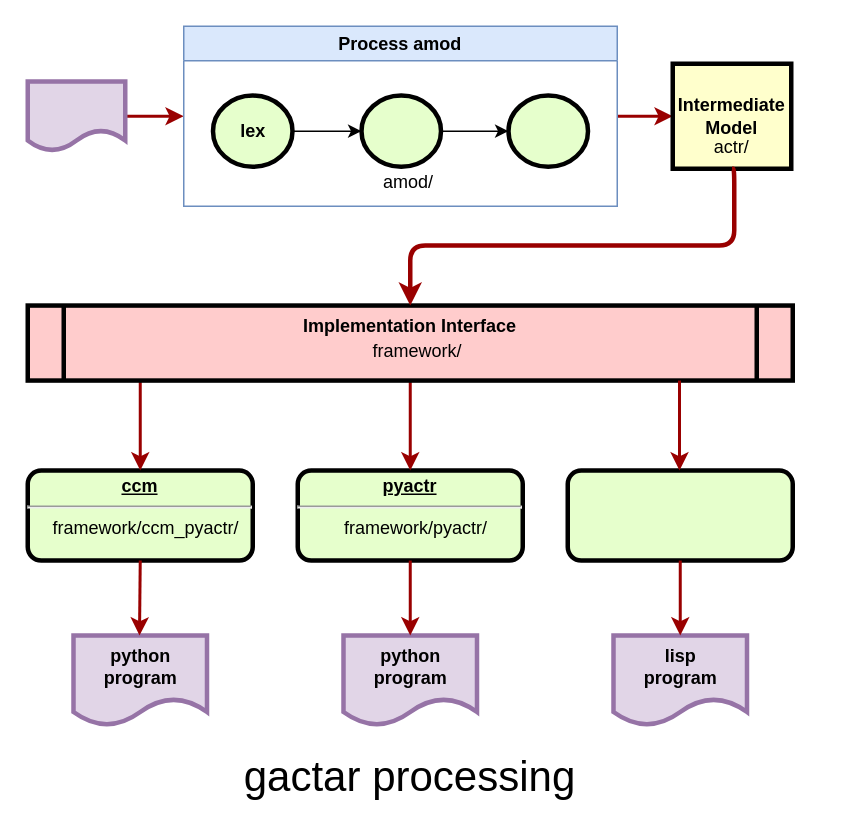
Some shapes in this 848 by 833 pixel diagram are drawn without their labels. Each missing label, with the centre of its shape:
amod File: the point at 76,115
parse: the point at 400,130
validate: the point at 548,130
vanilla framework/vanilla_actr/: the point at 679,515
